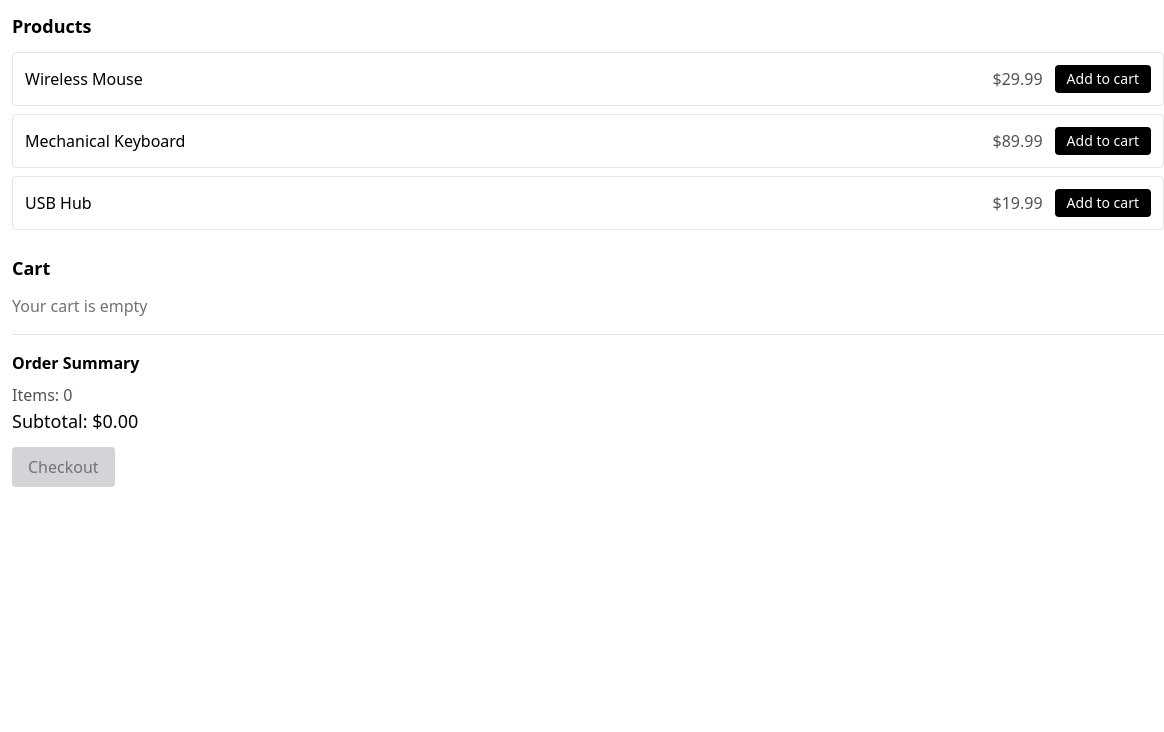
Test: ShoppingCart (integration) › increases and decreases quantity with +/- buttons
The width and height of the screenshot is (1164, 732).
Expected: the text "Wireless Mouse" is shown, [25, 67, 143, 91]
Add to cart
Click the button "Add to cart" next to "29.99" at point(1103, 79), box [1055, 65, 1151, 93]
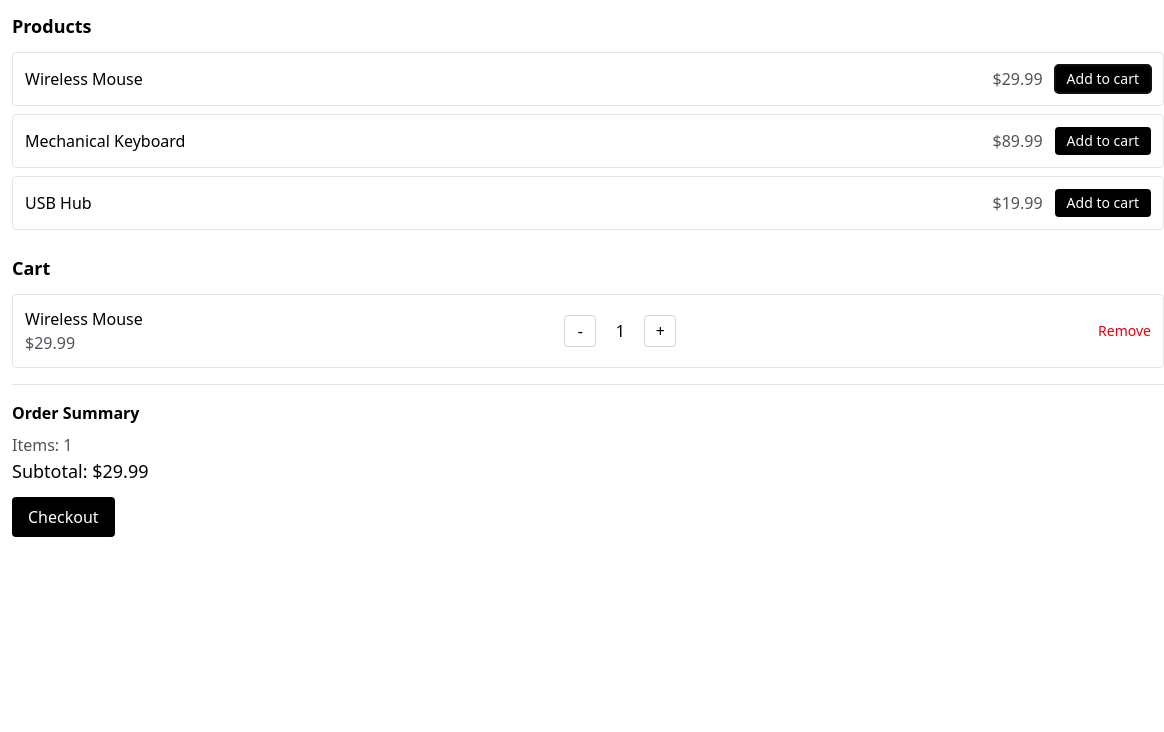
Click the button named "Increase Wireless Mouse quantity" at point(660, 331), box [644, 315, 676, 347]
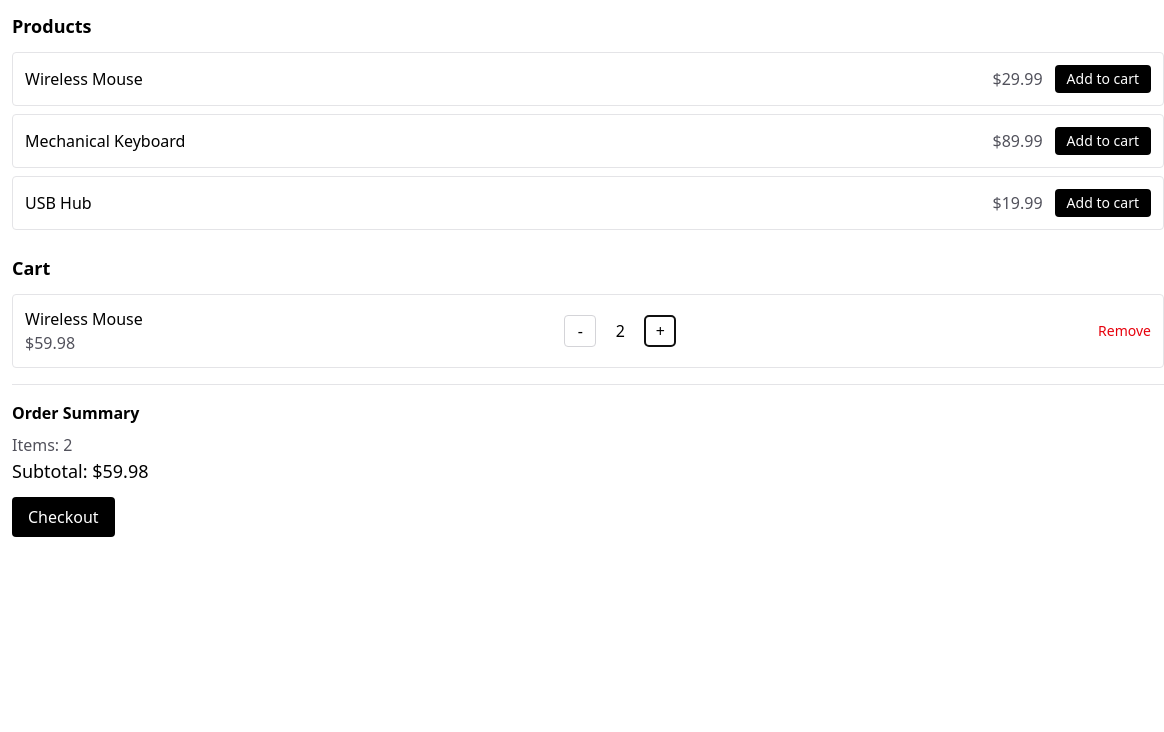
Result: the text named "Wireless Mouse quantity" reads "2" at [616, 320, 625, 342]
Click the button named "Decrease Wireless Mouse quantity" at point(580, 331), box [564, 315, 596, 347]
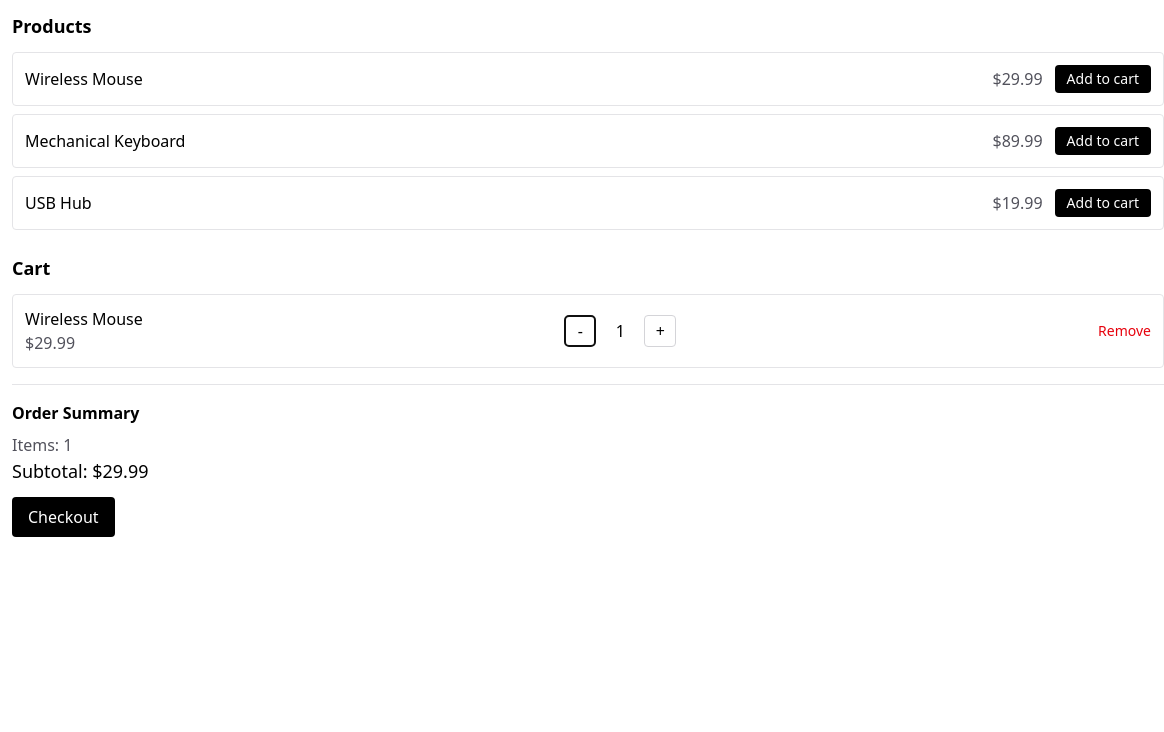
Result: the text named "Wireless Mouse quantity" reads "1" at [616, 320, 625, 342]
